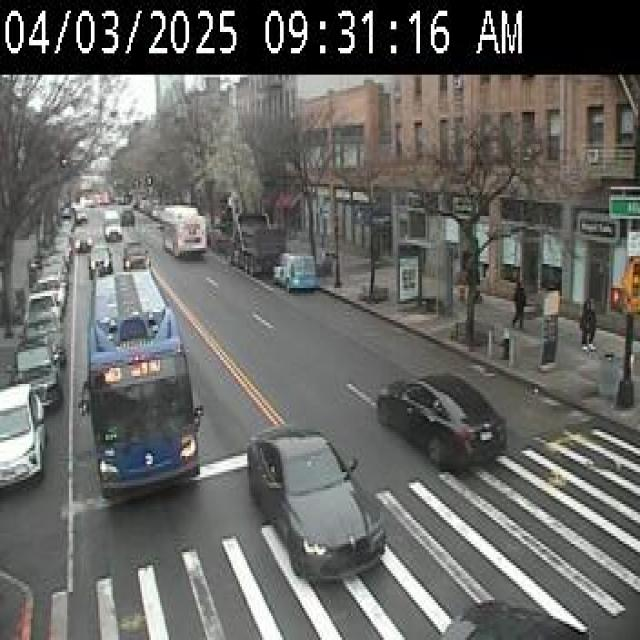open parking: (250, 227, 470, 368), (3, 355, 75, 599)
